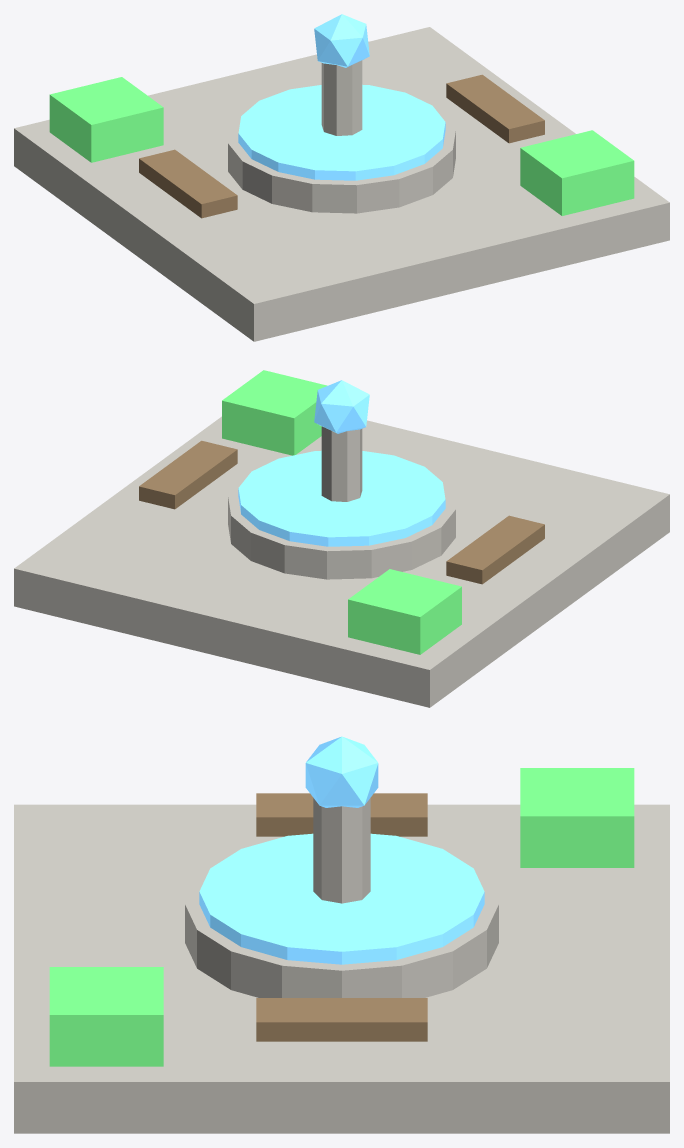
Rendered from plaza.glb.
3 views of the same model, one above another, from view 1: azimuth 30°, elevation 25°; view 2: azimuth 150°, elevation 25°; view 3: azimuth 270°, elevation 25° (orthographic). The views are drawn at different scales.
Visible parts, largest first — view 1: plaza; view 2: plaza; view 3: plaza.
Part boxes in pixels (box(x1,y1,x2,y2)): plaza: box(14, 14, 669, 341); plaza: box(14, 370, 669, 707); plaza: box(14, 736, 669, 1133).
Size of the model in its own units: 0.92 by 0.4 by 0.92.
